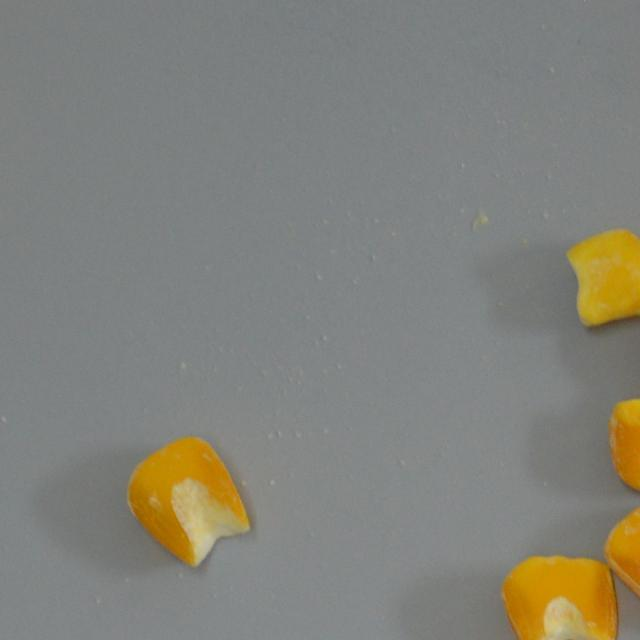pelicula: (134, 436, 243, 559), (506, 548, 618, 640), (558, 226, 640, 332), (604, 378, 640, 496), (620, 500, 640, 624)
